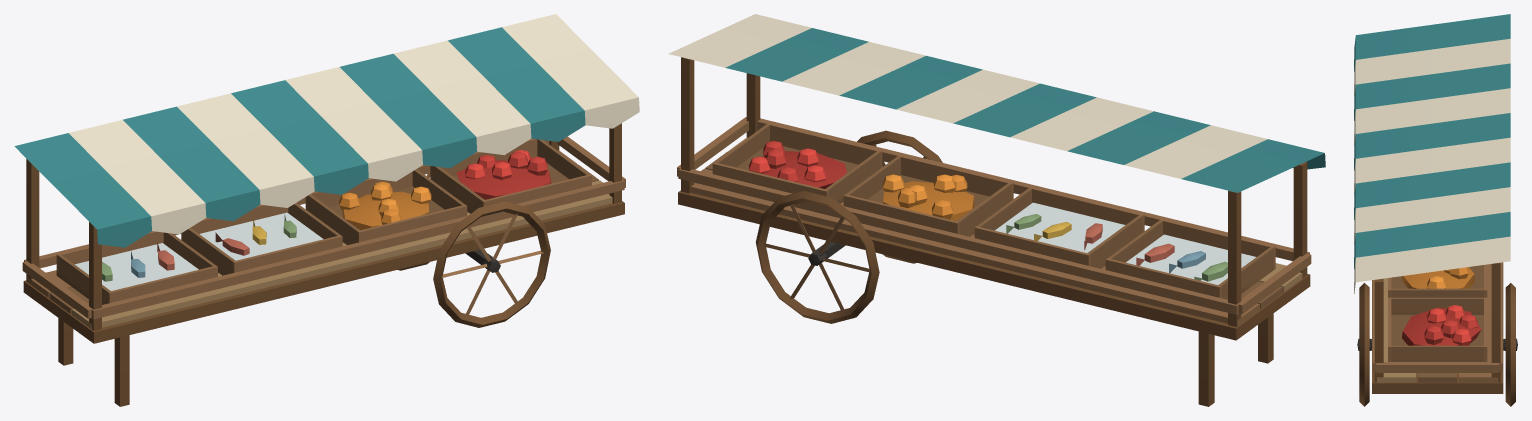
The model's file is market-cart.glb.
3 views of the same model, side by side, from view 1: azimuth 30°, elevation 25°; view 2: azimuth 150°, elevation 25°; view 3: azimuth 270°, elevation 25° (orthographic). The views are drawn at different scales.
Visible parts, largest first — view 1: market-cart; view 2: market-cart; view 3: market-cart.
Part boxes in pixels (bbox=[...]): market-cart: bbox=[14, 14, 639, 406]; market-cart: bbox=[668, 14, 1325, 406]; market-cart: bbox=[1354, 14, 1517, 406].
Size of the model in its own units: 7.27 by 2.81 by 2.04.
